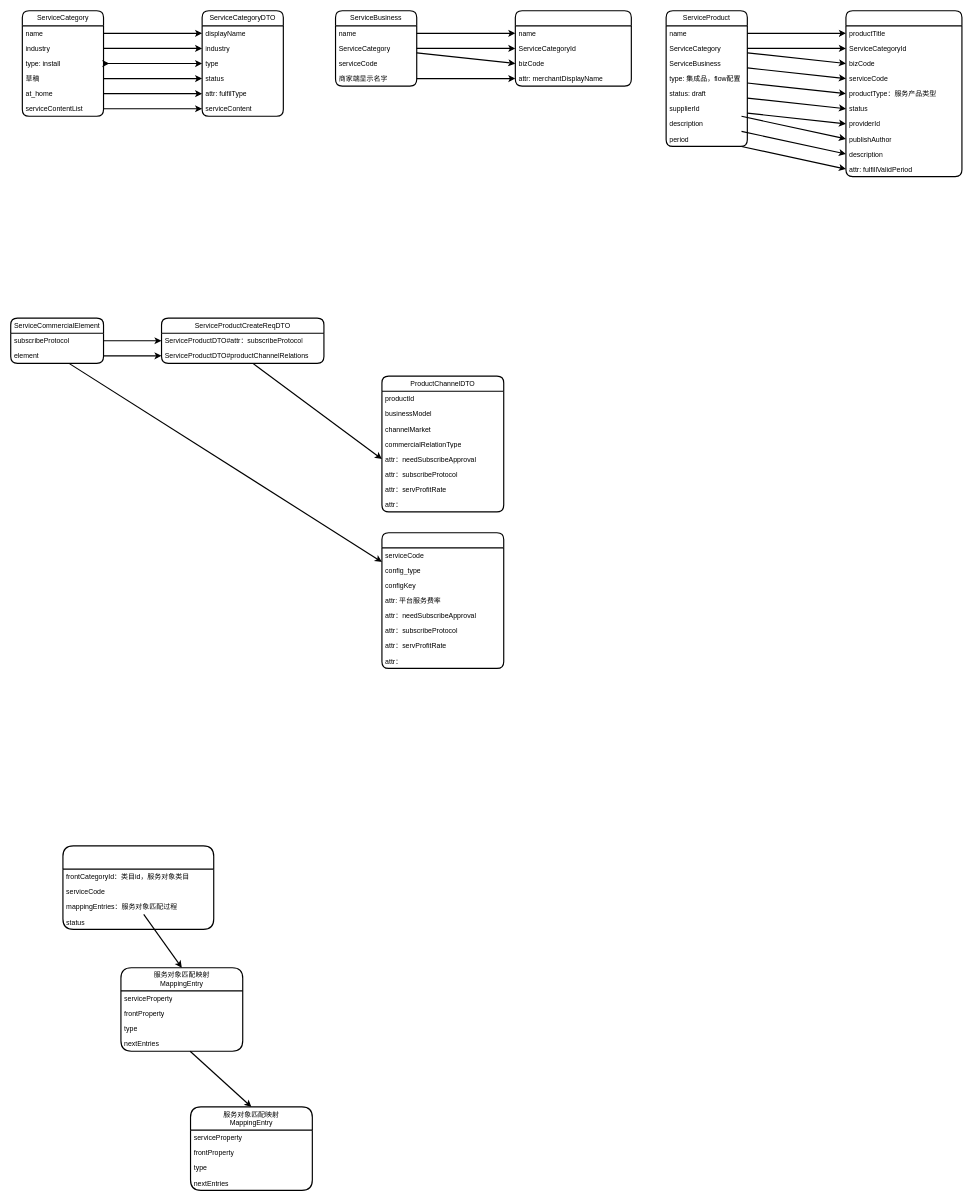
The diagram is 972 pixels wide and 1202 high, and some of its shapes have lost their labels. Each missing label, with the box of its shape:
SaveBusinessServiceRequestDTO: (514, 10, 632, 86)
ServiceFeeRateConfigDTO: (381, 532, 504, 669)
ServiceProductDTO: (845, 10, 962, 177)
服务对象 FrontMappingRuleDTO: (62, 845, 214, 930)
